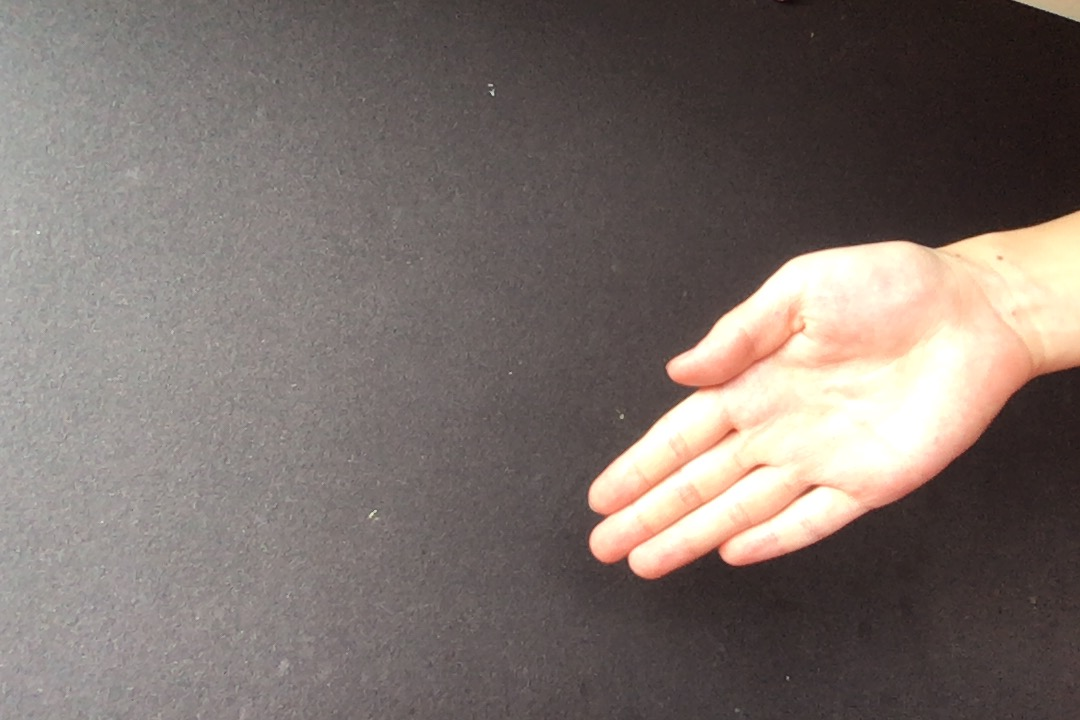palmhand: (582, 239, 1019, 583)
